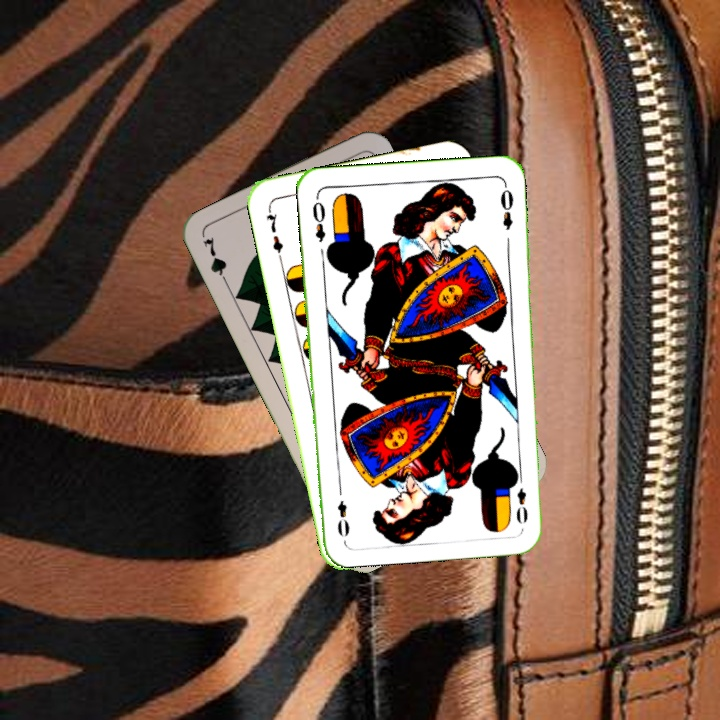E7: (263, 203, 286, 262)
EO: (510, 470, 531, 527), (308, 192, 328, 245)
G7: (199, 232, 232, 290)
